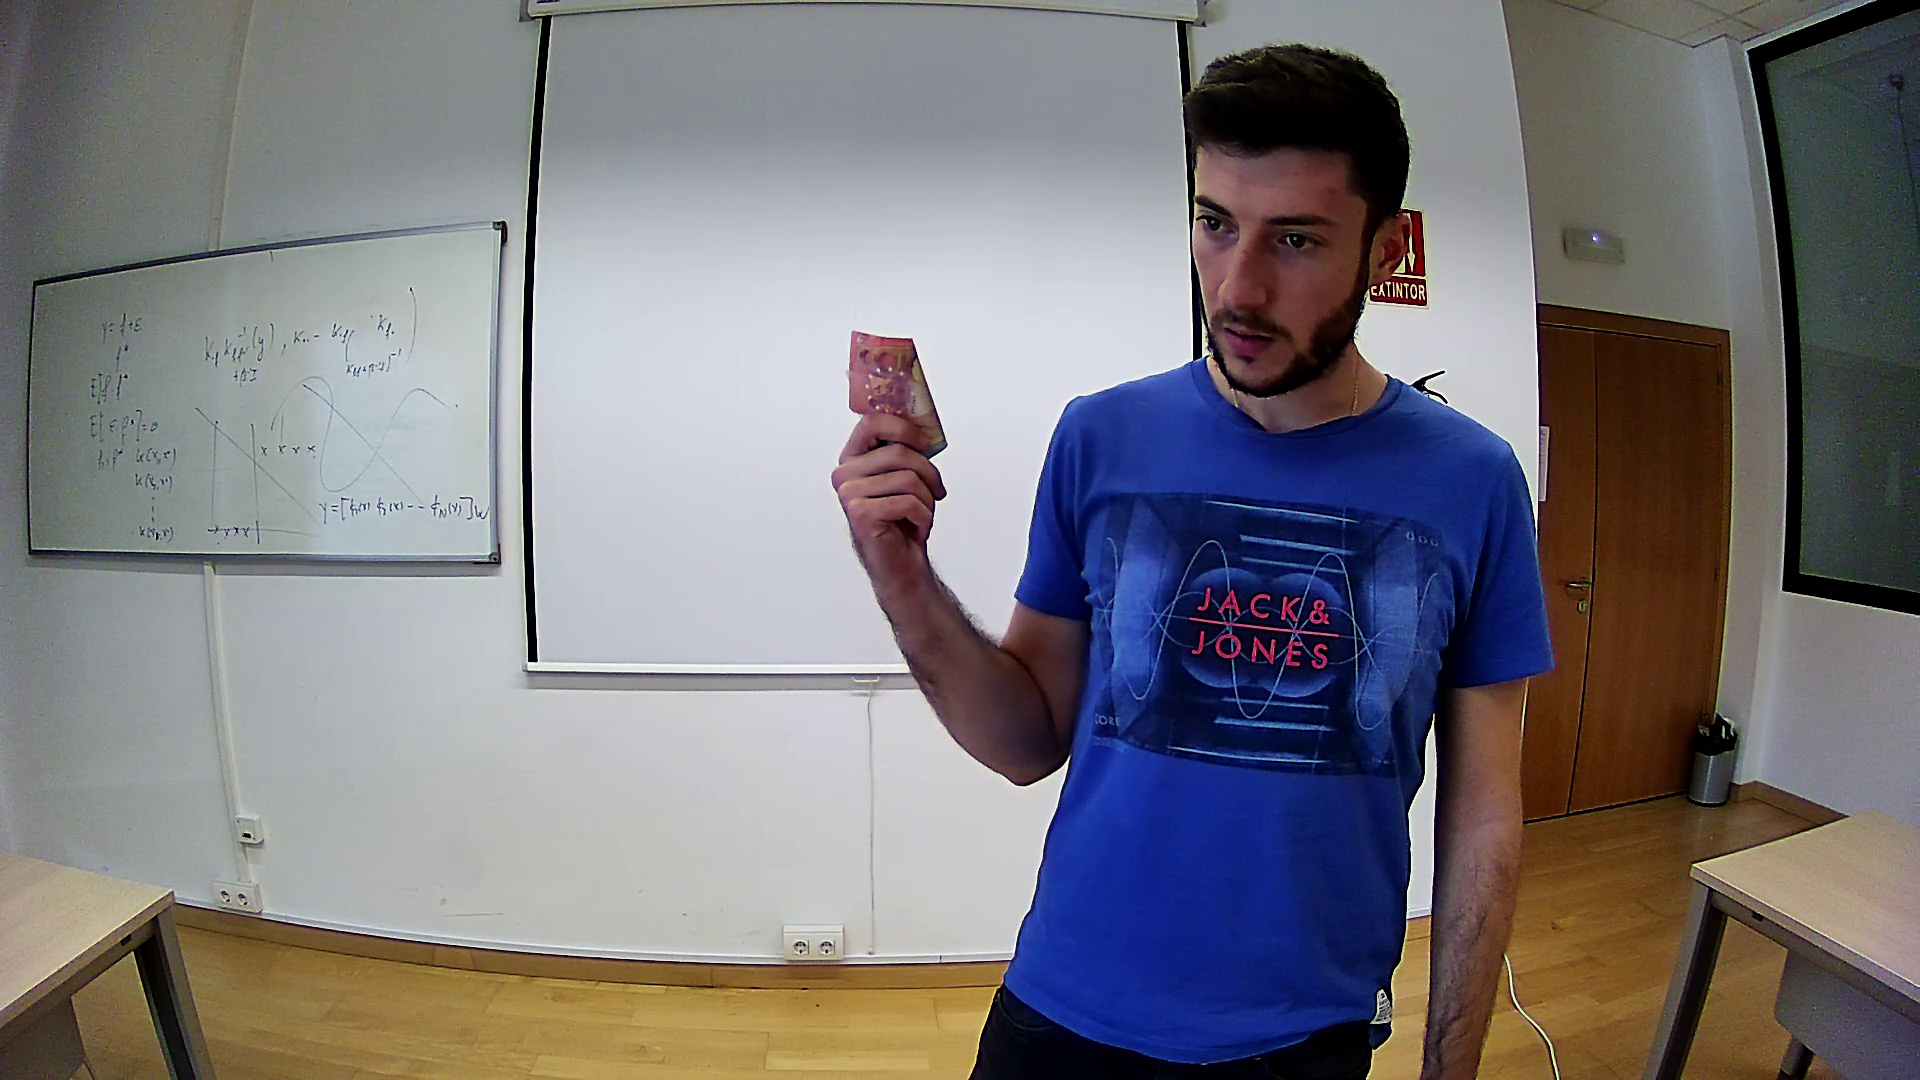billete: (845, 330, 949, 463)
